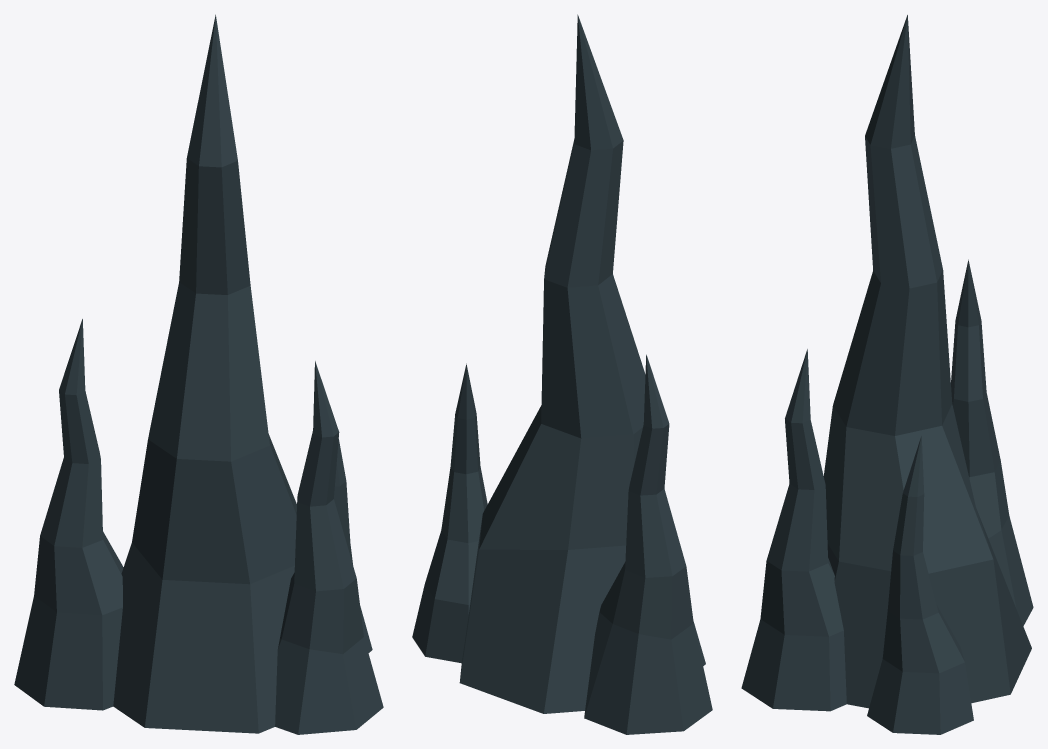
Rendered from AO_Plant05.fbx.
3 views of the same model, side by side, from view 1: azimuth 30°, elevation 25°; view 2: azimuth 150°, elevation 25°; view 3: azimuth 270°, elevation 25° (orthographic). The views are drawn at different scales.
Parts seen in each view (by area): view 1: AO_Plant05; view 2: AO_Plant05; view 3: AO_Plant05.
Part boxes in pixels (bbox=[...]): AO_Plant05: bbox=[14, 14, 383, 734]; AO_Plant05: bbox=[412, 14, 712, 734]; AO_Plant05: bbox=[741, 15, 1033, 734].
Size of the model in its own units: 88.08 by 182 by 74.23.
1 material, 1 textured.
